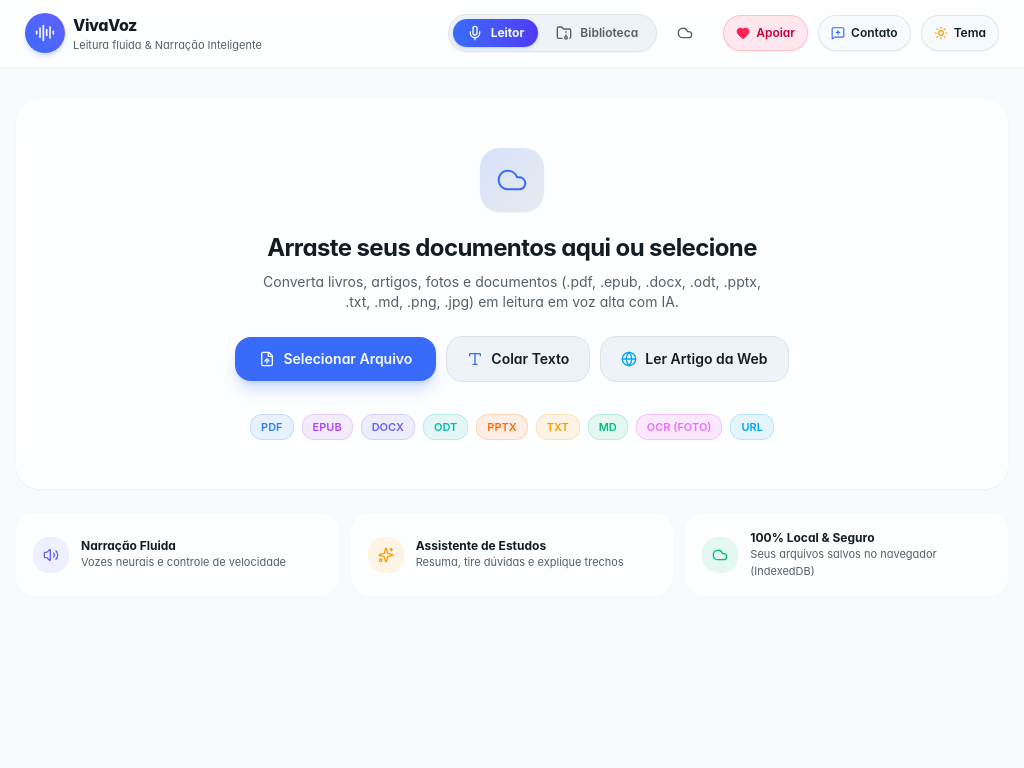
Scenario: Upload e Processamento Multi-Documento (PDF, EPUB, DOCX, ODT, PPTX, TXT, Web URL) › deve permitir extrair artigo da web via URL e iniciar leitura diretamente
Expected: the header is shown, [0,0,1023,67]
Expected: the button "Selecionar Arquivo" is shown, [235,336,436,380]
Click the button with test id "web-url-btn" at (694, 359), box [600,336,788,382]
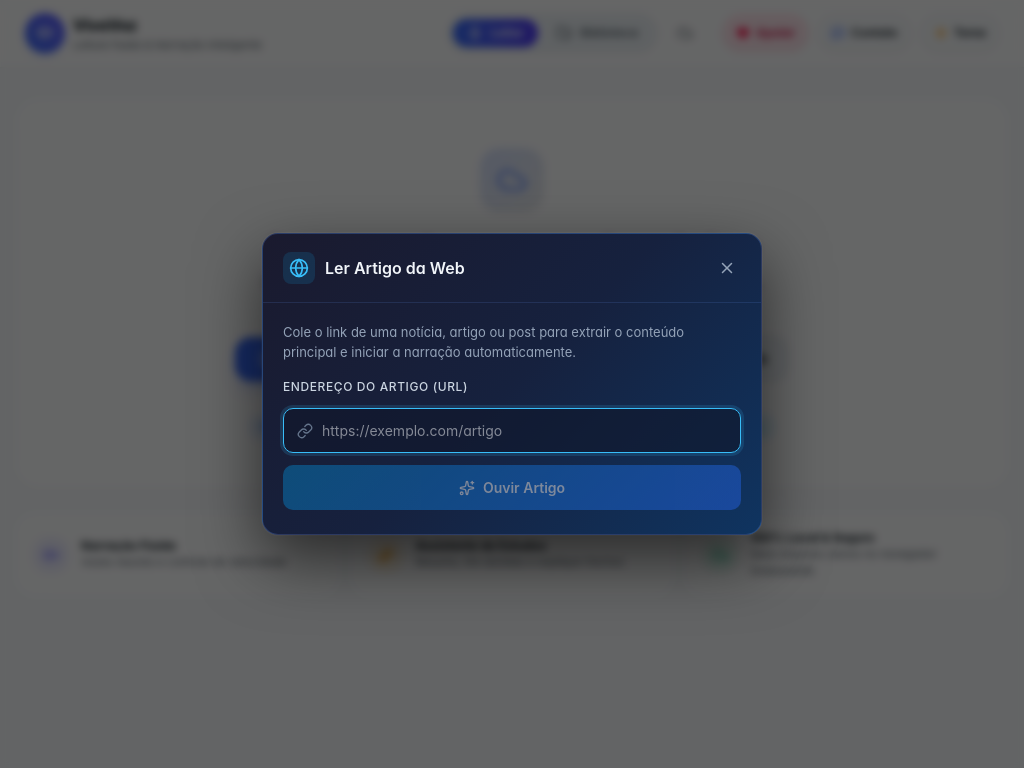
Expected: the field with test id "web-url-input" is shown
Type "https://exemplo.com/artigo-e2e" into the field with test id "web-url-input" at (512, 431), box [283,408,741,453]
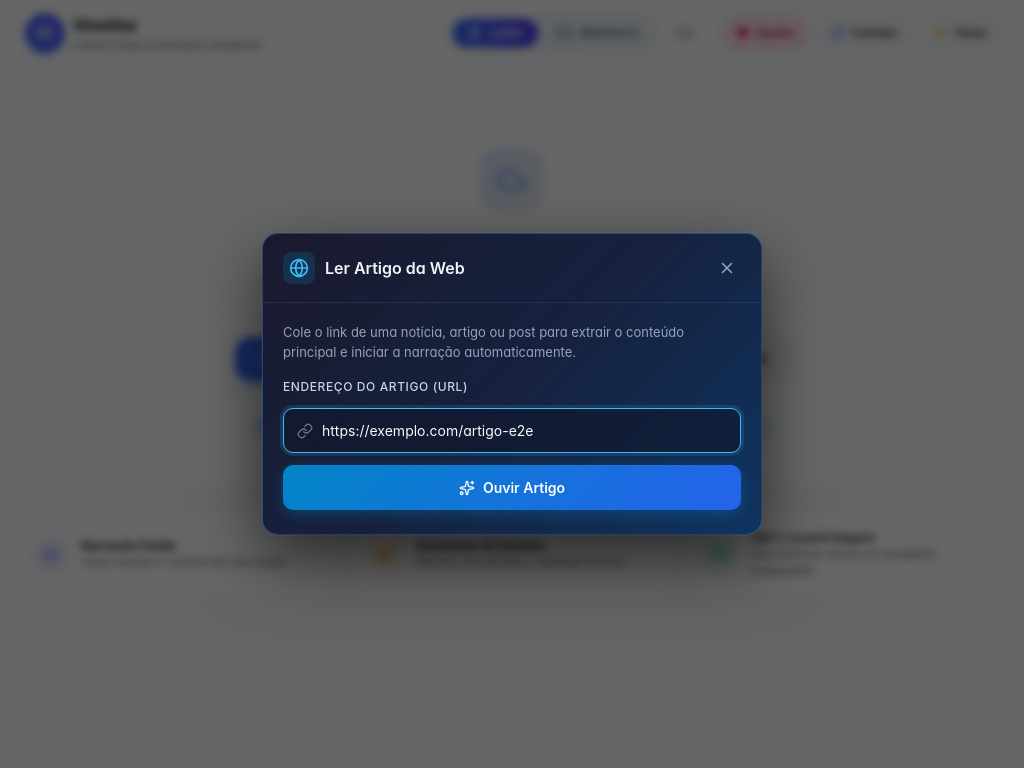
Click the button with test id "web-url-extract-btn" at (512, 488), box [283,465,741,510]
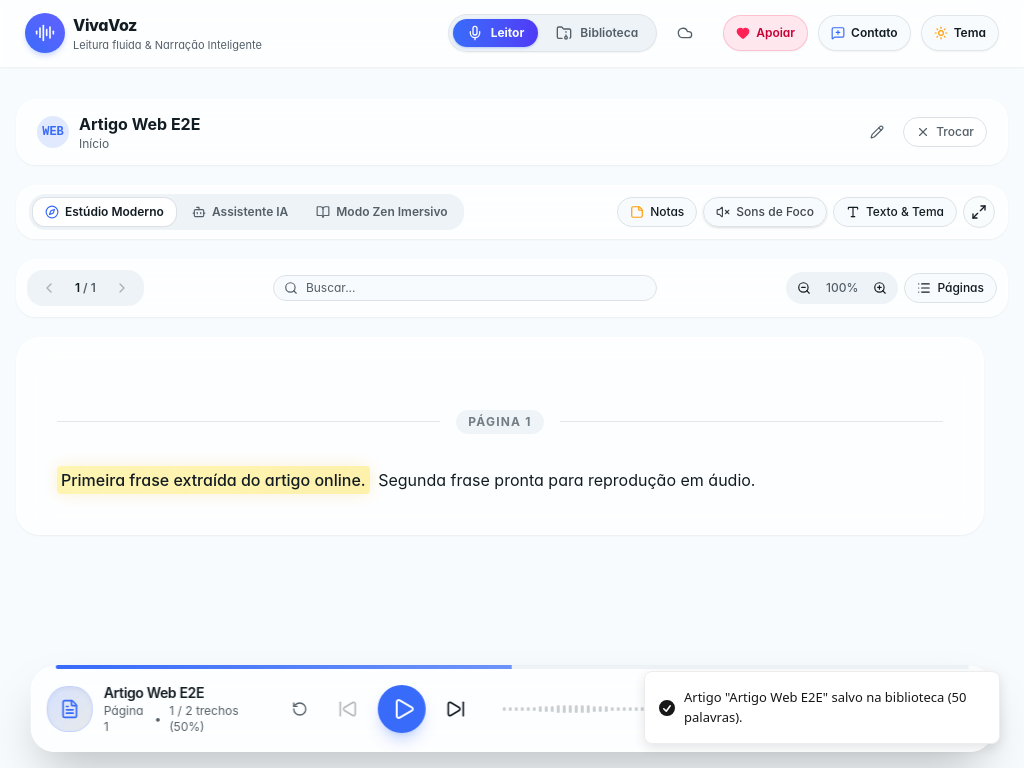
Expected: the heading "Artigo Web E2E" is shown, [79,114,200,134]
